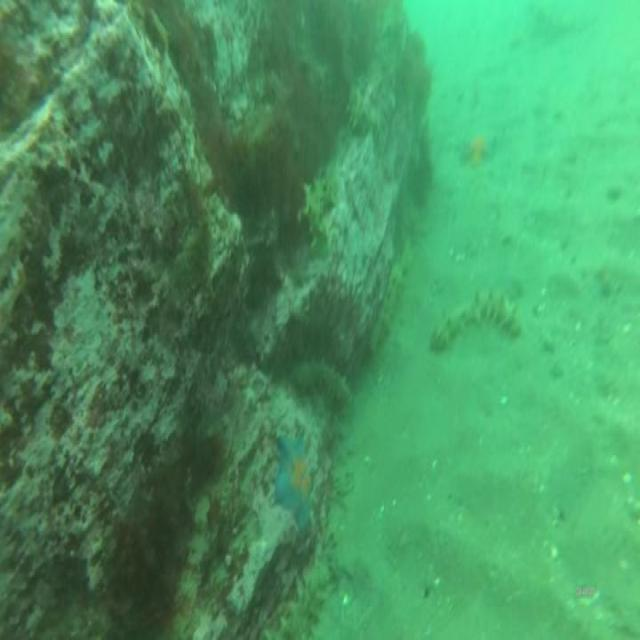holothurian: (429, 284, 523, 351), (270, 567, 334, 640), (288, 350, 355, 410), (302, 163, 339, 261), (375, 264, 405, 351), (347, 72, 373, 140)
starfish: (274, 431, 314, 536), (460, 123, 496, 174)
